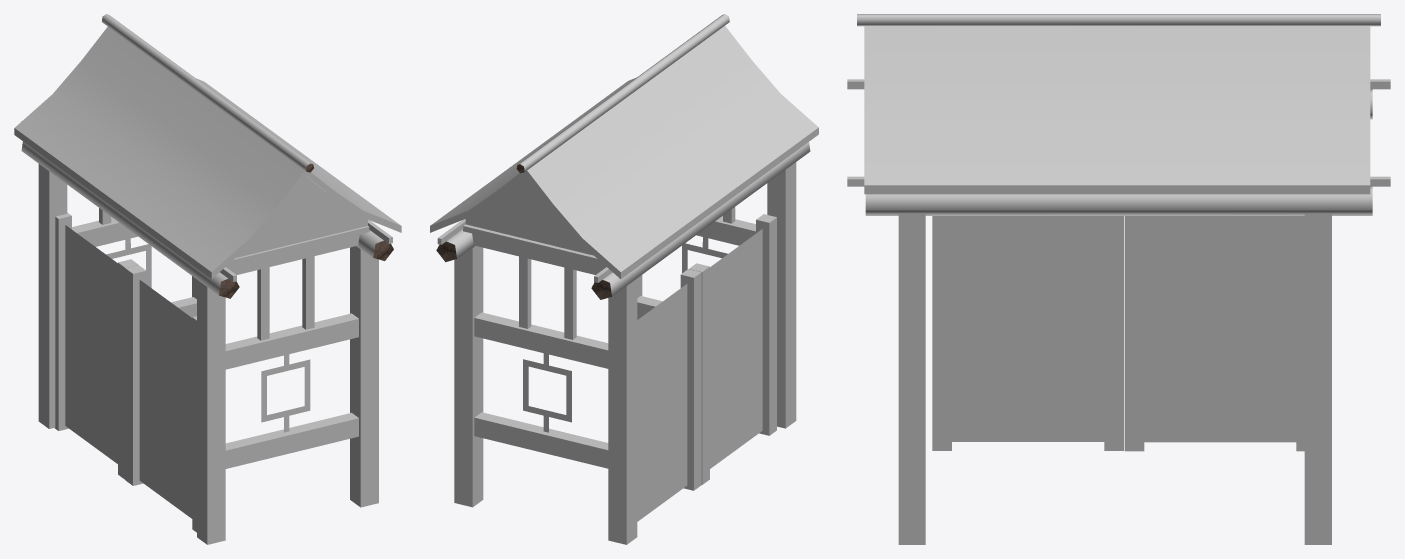
Rendered from gate_lod1.fbx.
The picture shows the model from 3 angles, left to right: view 1: azimuth 30°, elevation 25°; view 2: azimuth 150°, elevation 25°; view 3: azimuth 270°, elevation 25°; orthographic projection. The views are drawn at different scales.
Visible parts, largest first — view 1: gate_lod1, door_2_lod2, door_1_lod1; view 2: gate_lod1, door_2_lod2, door_1_lod1; view 3: gate_lod1, door_2_lod2, door_1_lod1.
Part boxes in pixels (x1,y1,x2,y2): gate_lod1: [14, 14, 401, 544]; door_2_lod2: [125, 265, 196, 532]; door_1_lod1: [55, 212, 138, 479]; gate_lod1: [430, 14, 818, 544]; door_2_lod2: [689, 214, 776, 484]; door_1_lod1: [637, 269, 701, 521]; gate_lod1: [847, 14, 1390, 544]; door_2_lod2: [932, 216, 1123, 450]; door_1_lod1: [1124, 216, 1304, 451].
Bounding box in the file's own units: 6.2 × 11.64 × 11.97.
